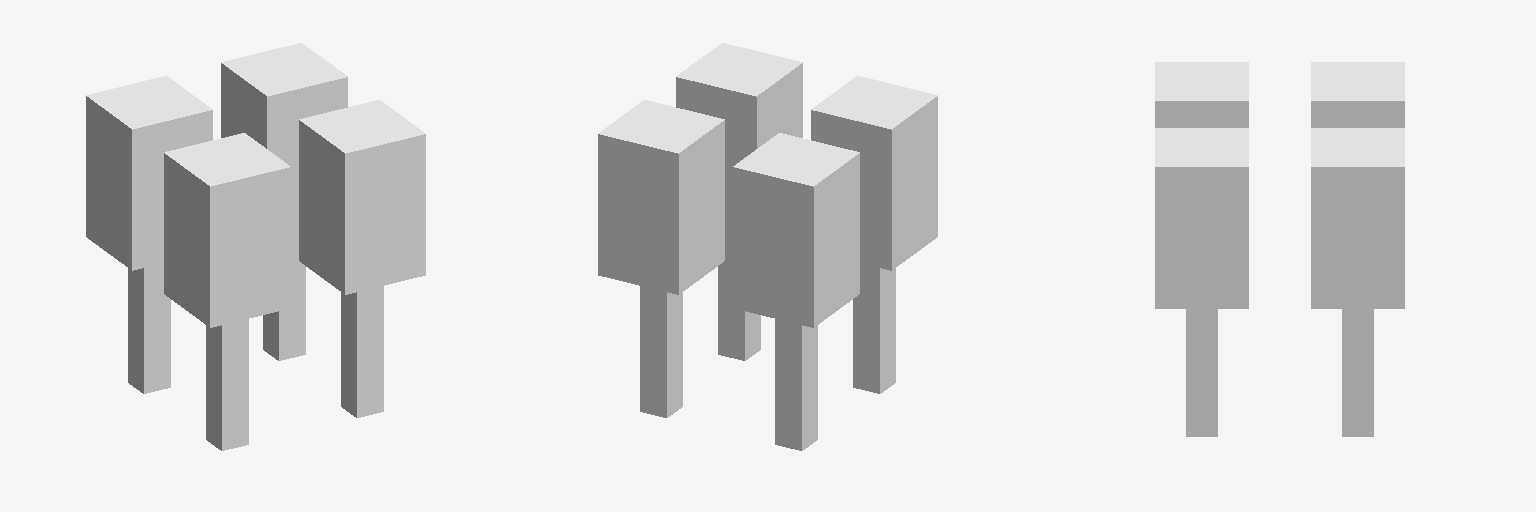
Rendered from box_spike_down.obj.
3 views of the same model, side by side, from view 1: azimuth 30°, elevation 25°; view 2: azimuth 150°, elevation 25°; view 3: azimuth 270°, elevation 25° (orthographic).
Parts seen in each view (by area): view 1: object 1; view 2: object 1; view 3: object 1.
Part boxes in pixels (x1,y1,x2,y2): object 1: (86,43,425,450); object 1: (598,43,937,450); object 1: (1155,62,1404,436).
Size of the model in its own units: 0.8 by 1 by 0.8.